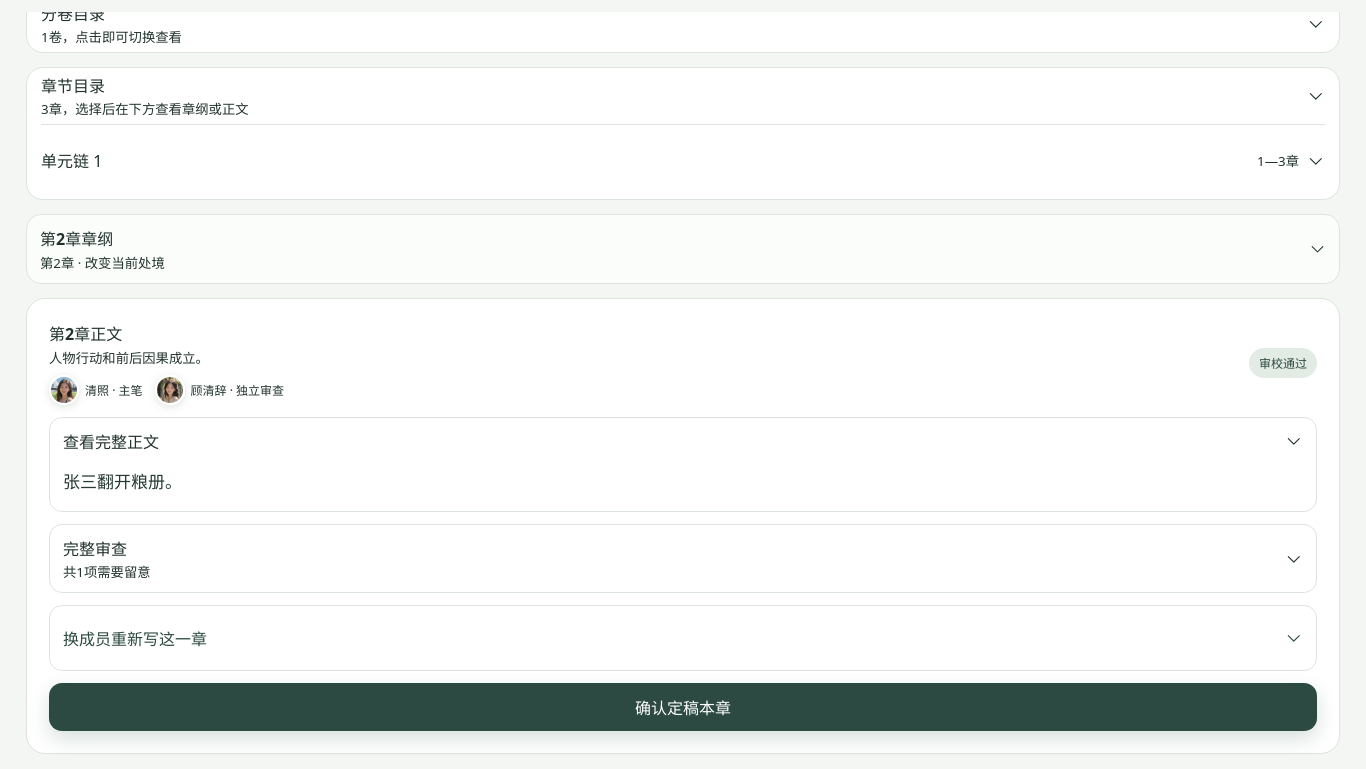
Test: V7卷链章创作工作台 › 正文待确认时同时显示本章主笔和独立审校头像
(page scrolled)
Expected: the text "第2章正文" is shown, [49,323,122,345]
Expected: the text "顾清辞 · 独立审查" is shown, [154,375,284,405]
What coordinates should you click on to do the following:
click the text "完整审查"
I would click on:
 (95, 549)
Its box is [63,538,127,560].
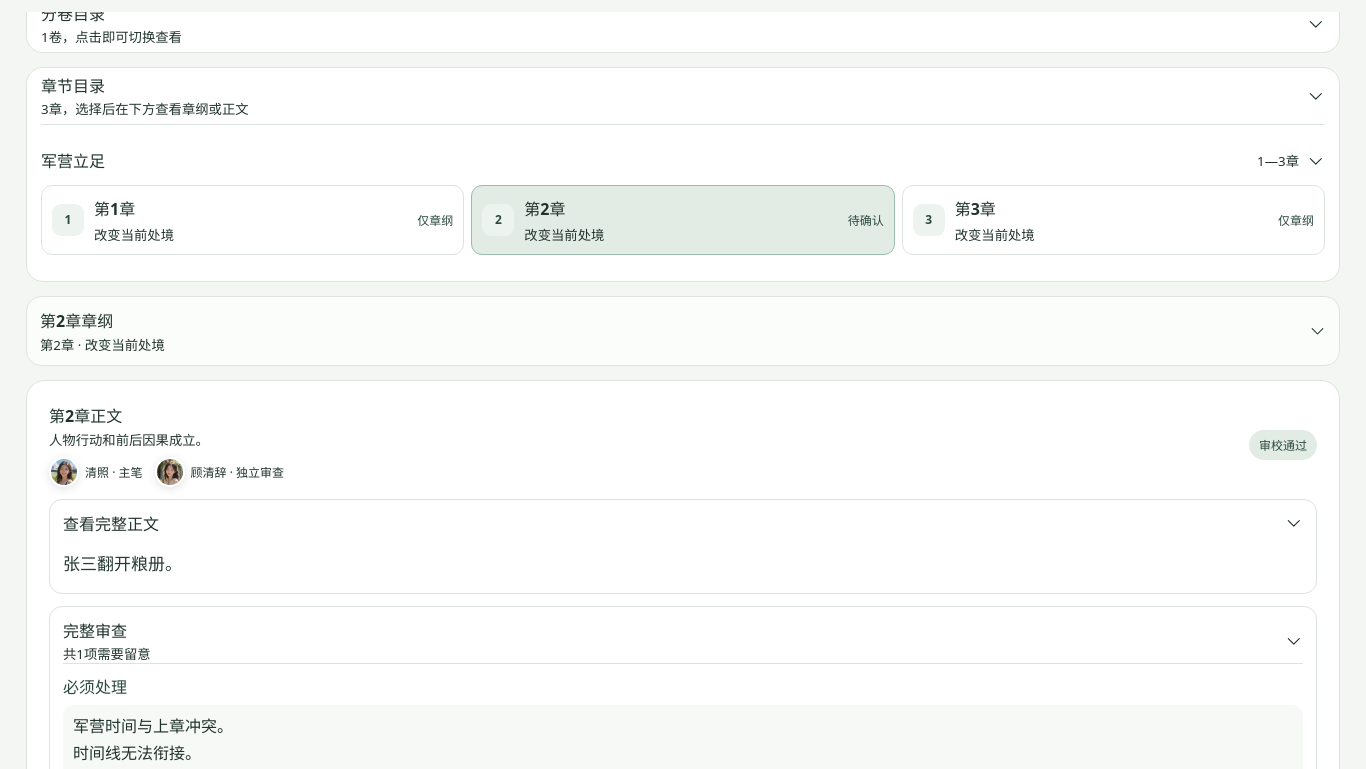
Expected: the number of icons with class "creation-avatar" is 2, [49,457,79,487]; [154,457,184,487]
Result: the text "必须处理" is shown at [63,676,127,698]
Result: the text "军营时间与上章冲突。" is shown at [73,715,233,737]
